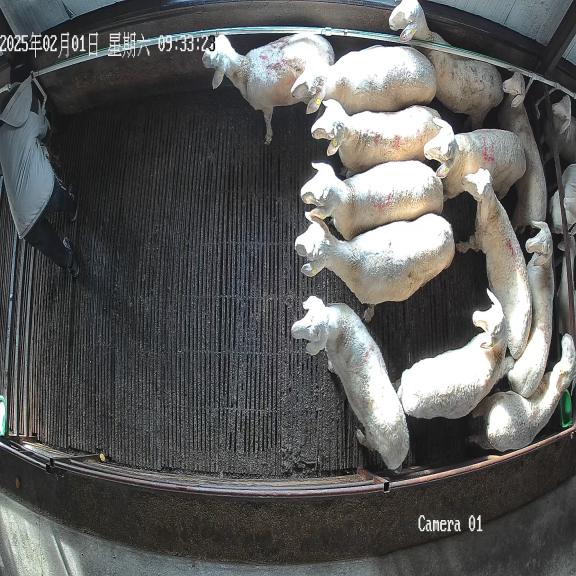stand: (291, 296, 409, 470), (202, 32, 335, 144), (455, 168, 532, 360), (389, 0, 504, 128), (295, 214, 454, 305), (397, 290, 506, 419), (469, 334, 576, 452), (300, 161, 444, 240), (290, 46, 437, 114), (311, 100, 440, 177), (501, 221, 554, 397), (423, 117, 526, 198), (499, 72, 547, 231)
